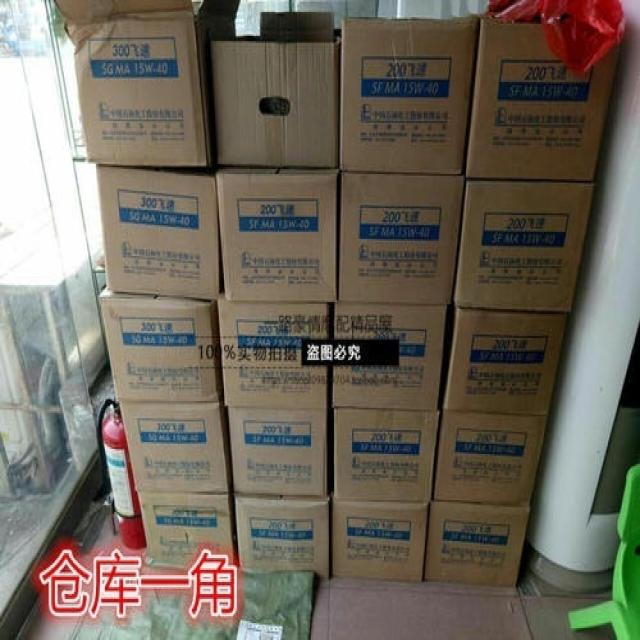box: (54, 1, 240, 173), (466, 19, 618, 183), (340, 15, 480, 176), (214, 11, 341, 169), (455, 181, 595, 314), (338, 169, 465, 303), (96, 166, 219, 300), (217, 169, 337, 301), (217, 282, 328, 410), (100, 286, 221, 403), (445, 308, 566, 414), (333, 304, 449, 410), (433, 410, 546, 504), (118, 403, 230, 492), (333, 410, 441, 501), (424, 500, 529, 584), (227, 405, 326, 494), (329, 498, 429, 582), (235, 495, 330, 579), (137, 493, 238, 568)
